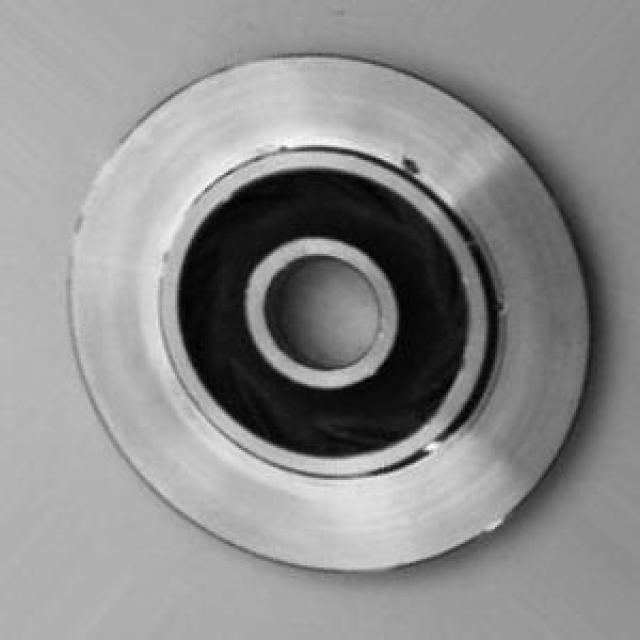Defect: (390, 149, 439, 183)
